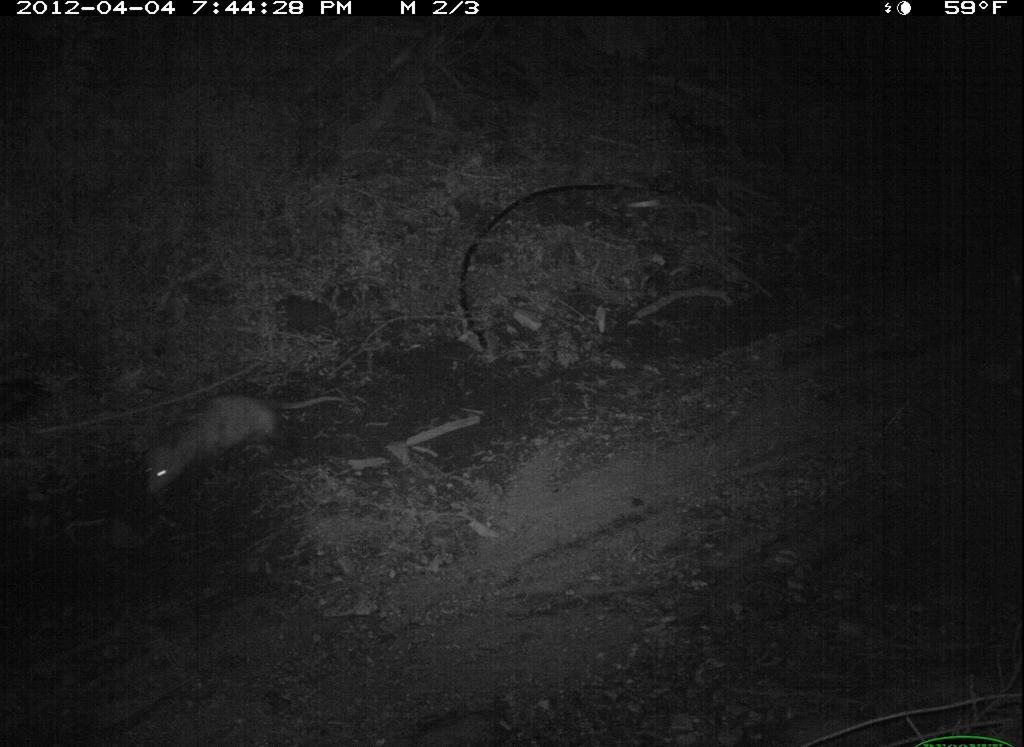opossum: (135, 386, 347, 507)
